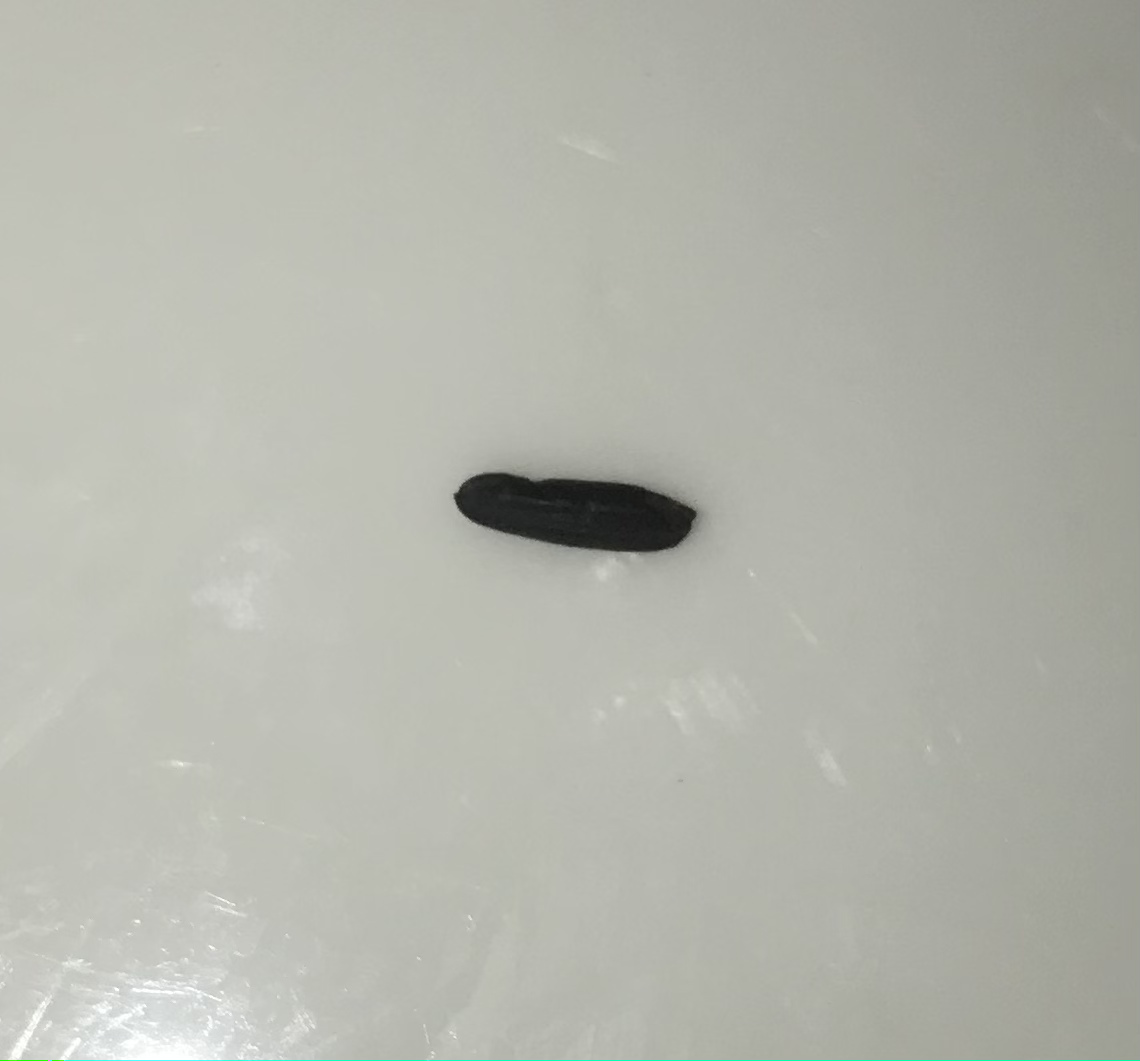Gao lut: (446, 454, 703, 566)
